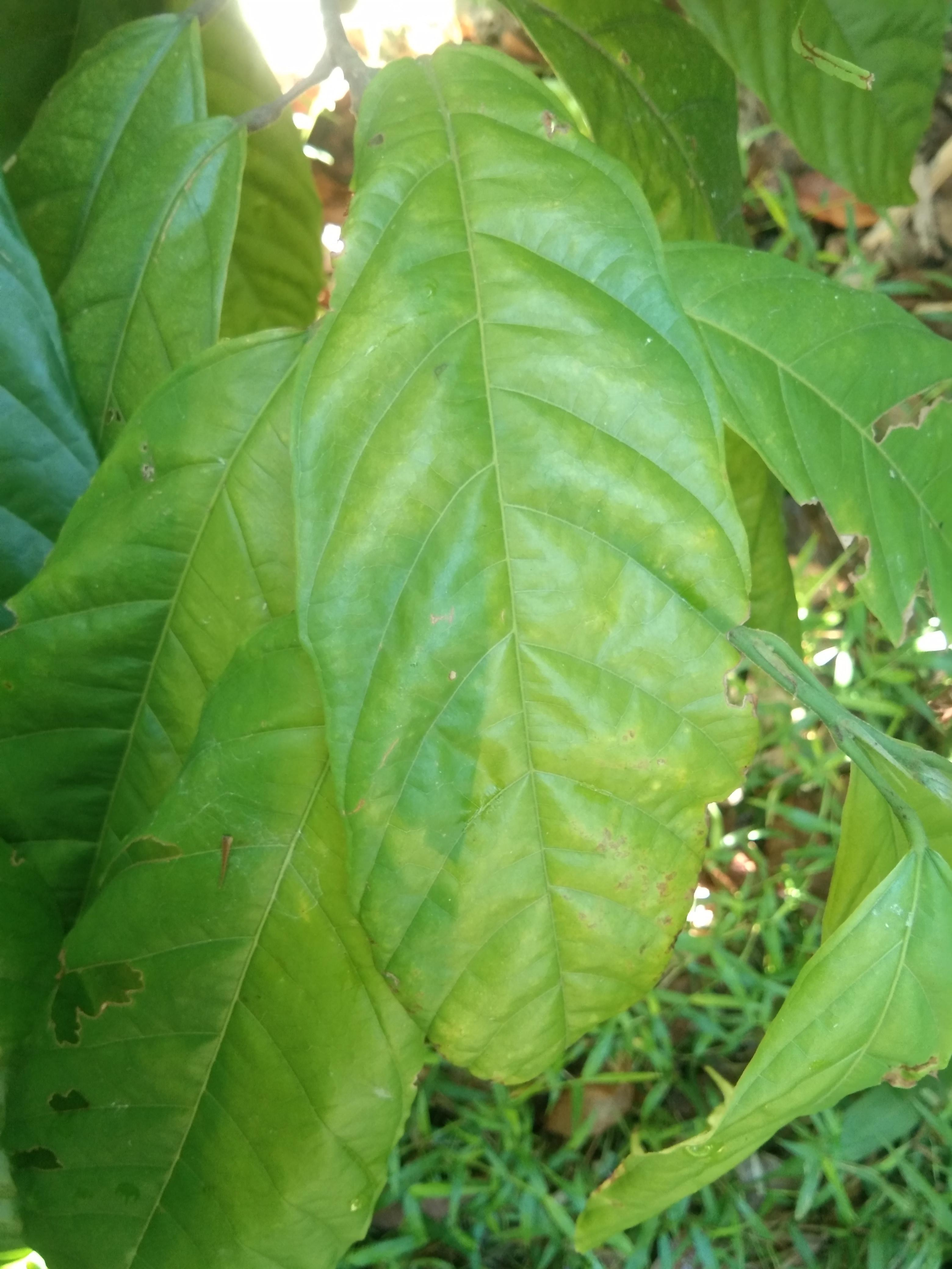deficiencia_potasio: (273, 22, 789, 1100)
